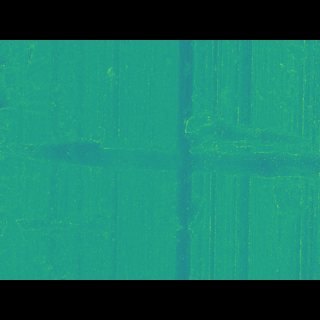Loch: (0, 126, 320, 176), (0, 196, 129, 228), (151, 182, 217, 221)
